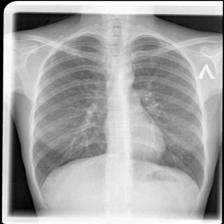tuberculosis: (29, 23, 209, 202)
